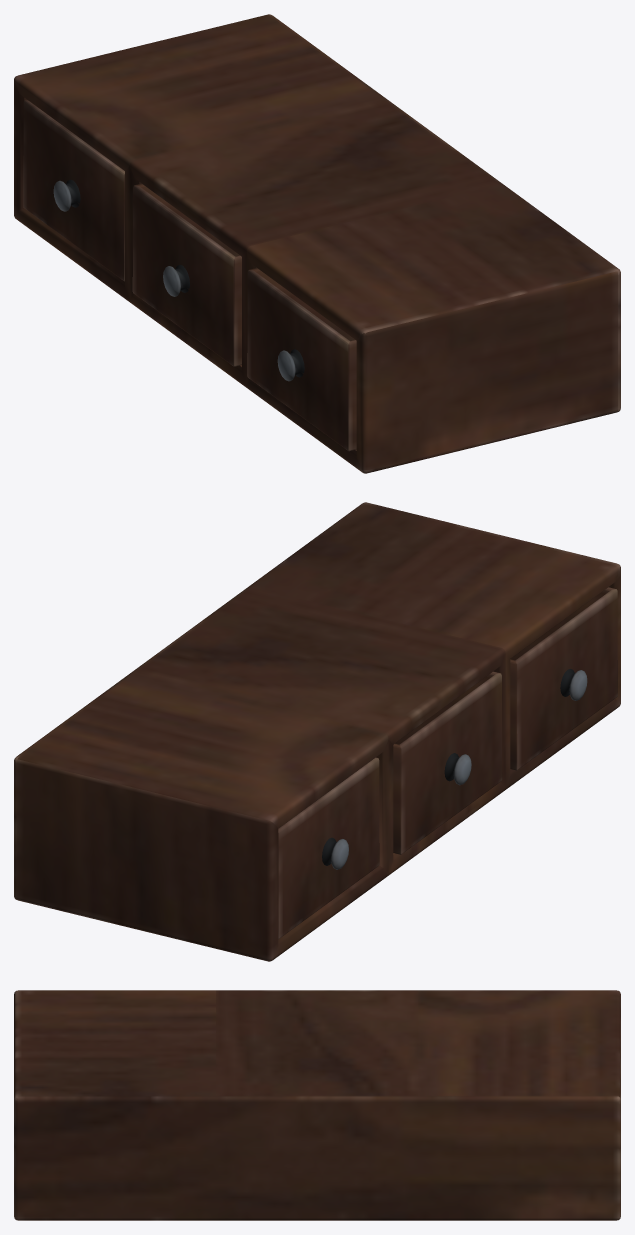
File: SM_TillFrame_Pack5.fbx
3 views of the same model, one above another, from view 1: azimuth 30°, elevation 25°; view 2: azimuth 150°, elevation 25°; view 3: azimuth 270°, elevation 25° (orthographic). The views are drawn at different scales.
Visible parts, largest first — view 1: SM_TillFrame_Pack5_LOD0; view 2: SM_TillFrame_Pack5_LOD0; view 3: SM_TillFrame_Pack5_LOD0.
Boxes of the visible parts, bbox=[...] form: SM_TillFrame_Pack5_LOD0: bbox=[14, 14, 620, 473]; SM_TillFrame_Pack5_LOD0: bbox=[14, 502, 620, 961]; SM_TillFrame_Pack5_LOD0: bbox=[14, 990, 620, 1220].
Size of the model in its own units: 32.23 by 70.19 by 15.79.
1 material, 1 textured.
